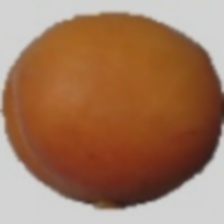apricot: (63, 12, 201, 199)
